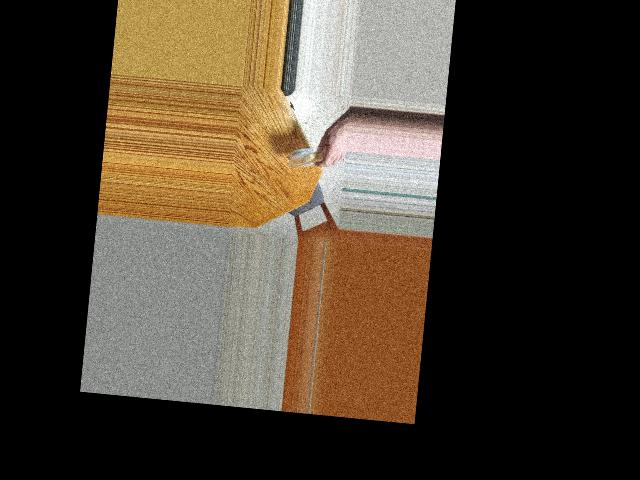cheese: (291, 137, 326, 171)
